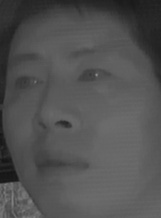eye: (73, 62, 115, 91), (11, 72, 45, 93)
mouth: (30, 145, 93, 180)
